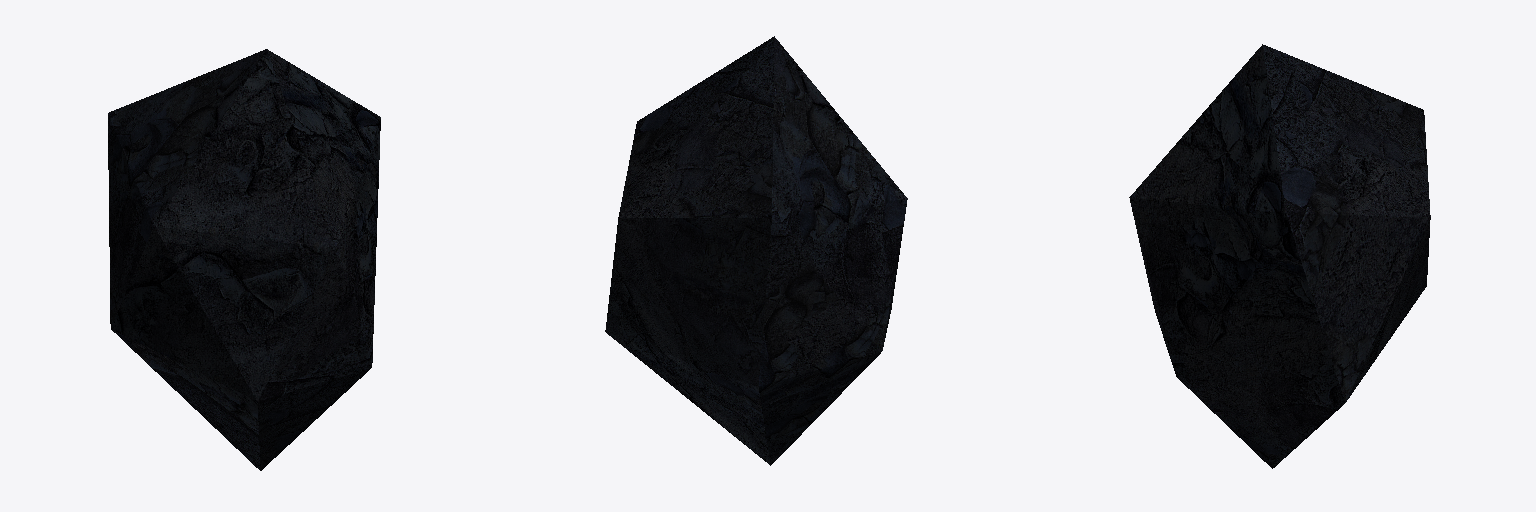
The picture shows the model from 3 angles: view 1: azimuth 30°, elevation 25°; view 2: azimuth 150°, elevation 25°; view 3: azimuth 270°, elevation 25°; orthographic projection.
Parts seen in each view (by area): view 1: Icosphere; view 2: Icosphere; view 3: Icosphere.
Boxes of the visible parts, <box> form: Icosphere: <box>108,49,380,470</box>; Icosphere: <box>605,36,907,465</box>; Icosphere: <box>1129,44,1430,468</box>.
Bounding box in the file's own units: 0.9471 × 1.48 × 0.9504.
Materials: 1 (1 with a texture image).